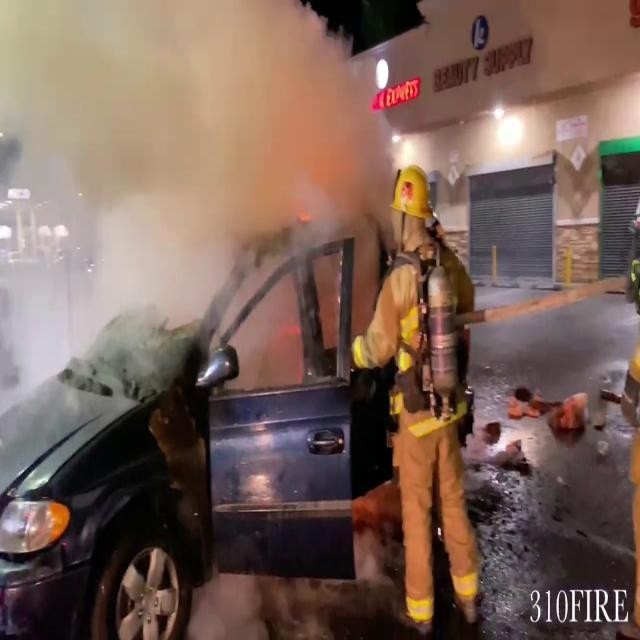Smoke: (0, 0, 413, 377)
